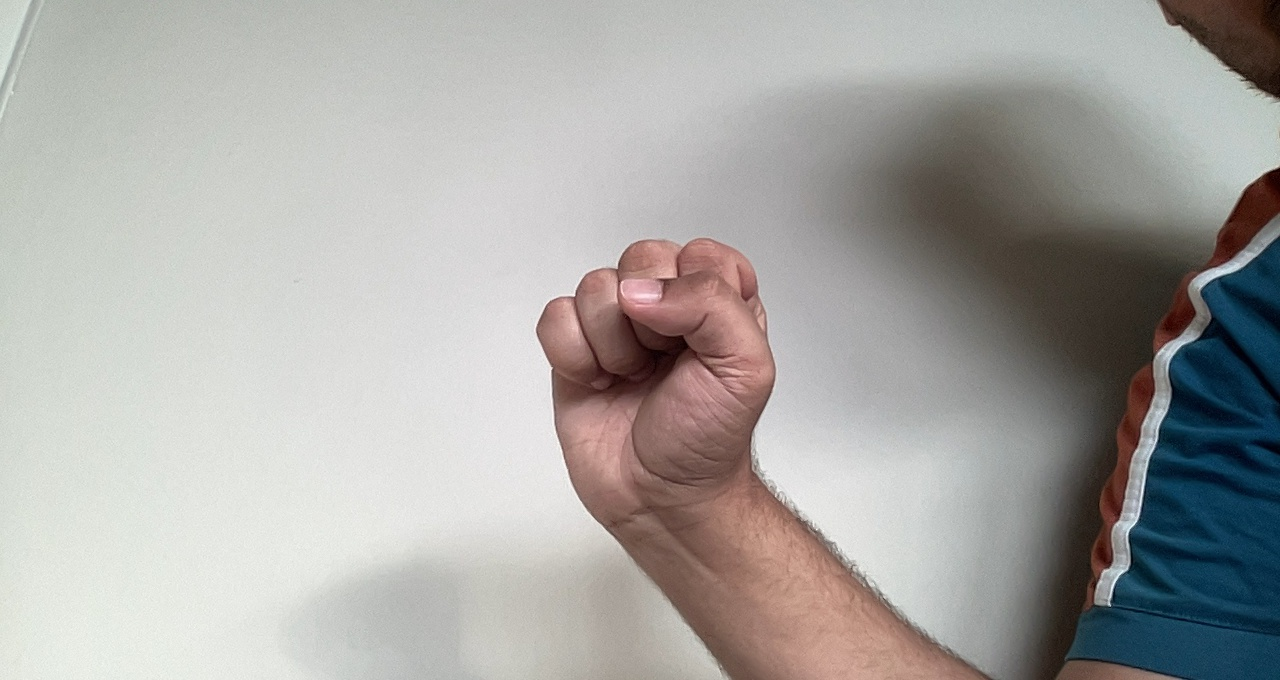closedfist: (529, 232, 784, 550)
